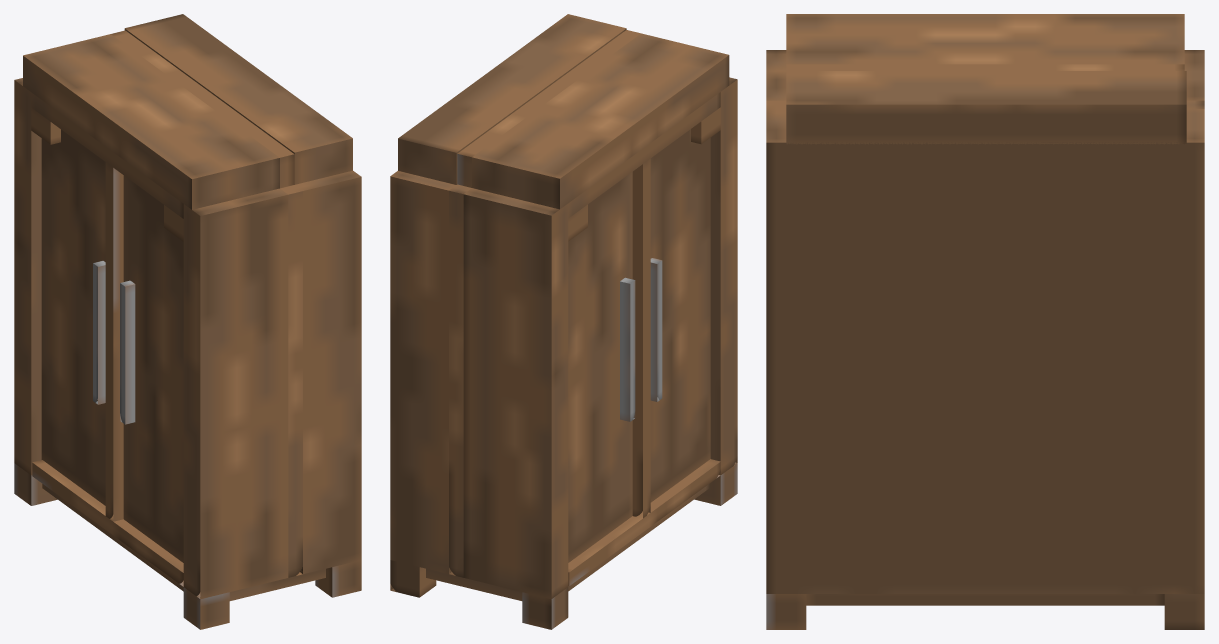
Rendered from wardrobe.fbx.
The picture shows the model from 3 angles, left to right: view 1: azimuth 30°, elevation 25°; view 2: azimuth 150°, elevation 25°; view 3: azimuth 270°, elevation 25°; orthographic projection. The views are drawn at different scales.
Visible parts, largest first — view 1: cube_4, cube_14, cube_21, cube_3, cube_22, cube_2, cube_18, cube_1, cube_15, cube_5, cube, cube_19 (+7 smaller); view 2: cube_2, cube_14, cube_21, cube_3, cube_22, cube_4, cube_18, cube_1, cube_15, cube_5, cube, cube_20 (+7 smaller); view 3: cube_21, cube_22, cube_3, cube_11, cube_5, cube_7, cube_9, cube_4, cube_2.
Boxes of the visible parts, box(x1,y1,x2,y2) form: cube_4: box(183, 188, 288, 599); cube_14: box(41, 129, 183, 562); cube_21: box(295, 170, 361, 574); cube_3: box(23, 34, 279, 209); cube_22: box(124, 14, 352, 184); cube_2: box(14, 78, 41, 475); cube_18: box(105, 162, 123, 521); cube_1: box(280, 185, 302, 577); cube_15: box(32, 460, 183, 586); cube_5: box(111, 30, 294, 188); cube: box(31, 92, 183, 218); cube_19: box(120, 280, 135, 424); cube_2: box(463, 188, 568, 599); cube_14: box(568, 129, 710, 562); cube_21: box(390, 171, 455, 574); cube_3: box(472, 33, 729, 209); cube_22: box(398, 14, 626, 184); cube_4: box(710, 77, 737, 475); cube_18: box(632, 159, 650, 518); cube_1: box(449, 184, 471, 577); cube_15: box(568, 459, 720, 585); cube_5: box(457, 30, 640, 187); cube: box(568, 92, 720, 218); cube_20: box(620, 277, 635, 421); cube_21: box(766, 109, 1204, 593); cube_22: box(786, 71, 1186, 144); cube_3: box(786, 14, 1184, 64); cube_11: box(806, 594, 1164, 605); cube_5: box(786, 64, 1184, 70); cube_7: box(766, 594, 806, 629); cube_9: box(1164, 594, 1204, 629); cube_4: box(766, 50, 786, 100); cube_2: box(1184, 50, 1204, 100).
Bounding box in the file's own units: 68.75 × 182 × 138.
1 material, 1 textured.
